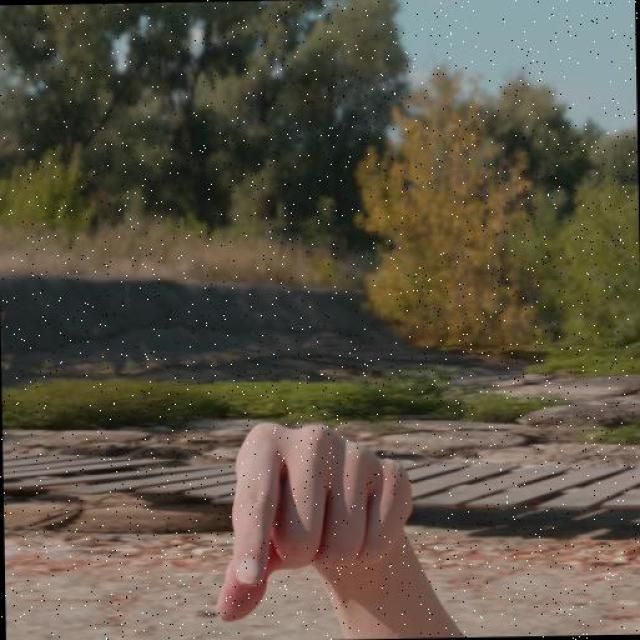Q: (212, 417, 421, 628)
